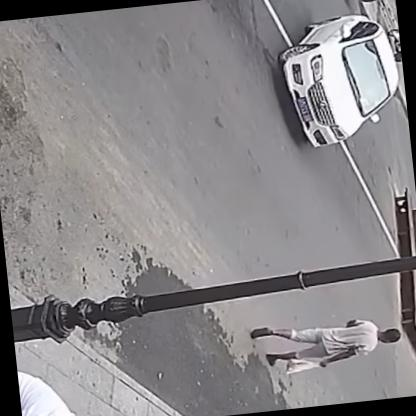Human Body: (246, 304, 405, 380)
